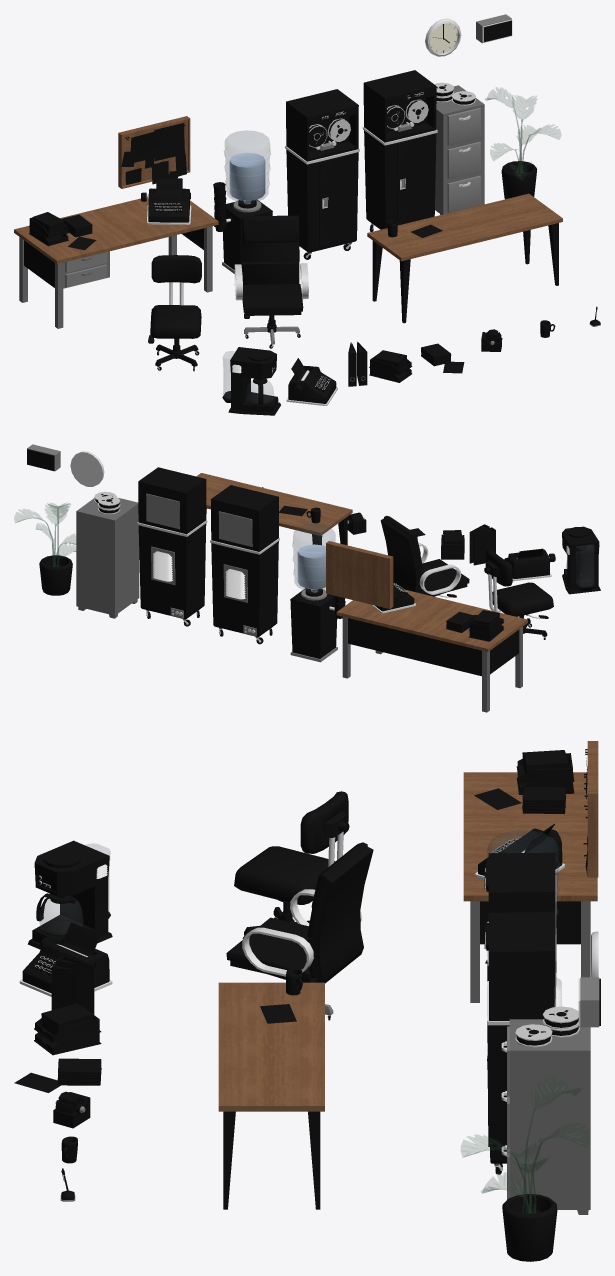
File: 60_39_s_Office_Props.glb
3 renders of one model, top to bottom at view 1: azimuth 30°, elevation 25°; view 2: azimuth 150°, elevation 25°; view 3: azimuth 270°, elevation 25°, orthographic. The views are drawn at different scales.
Visible parts, largest first — view 1: Cube.022_0, Cube.000_0, Cube.020_0, Cube.021_4, Cube.016_0, Cube.004_4, Cube.003_1, Cube.023_5, Cube.11647_0, Cube.003_2, Cube.022_1, Cube.000_7 (+20 smaller); view 2: Cube.000_0, Cube.022_0, Cube.003_2, Cube.016_0, Cube.016_1, Cube.11647_1, Cube.023_0, Cube.020_0, Cube.023_5, Cube.021_5, Cube.004_4, Cube.015_0 (+17 smaller); view 3: Cube.003_2, Cube.020_0, Cube.000_0, Cube.016_0, Cube.021_5, Cube.015_0, Cube.004_4, Cube.022_0, Cylinder.003_1, Cube.021_4, Cylinder.003_0, Cube.020_1 (+20 smaller).
Boxes of the visible parts, x1,y1,x2,y2 form: Cube.022_0: (286,89,358,252); Cube.000_0: (363,70,436,229); Cube.020_0: (367,193,562,261); Cube.021_4: (242,215,303,312); Cube.016_0: (14,198,218,263); Cube.004_4: (150,255,201,338); Cube.003_1: (447,108,480,212); Cube.023_5: (224,130,270,204); Cube.11647_0: (121,123,186,184); Cube.003_2: (435,85,484,214); Cube.022_1: (319,156,346,245); Cube.000_7: (397,137,424,225); Cube.000_0: (138,467,206,619); Cube.022_0: (211,485,278,637); Cube.003_2: (76,497,139,618); Cube.016_0: (336,589,527,651); Cube.016_1: (348,618,518,676); Cube.11647_1: (326,541,393,608); Cube.023_0: (290,588,337,658); Cube.020_0: (196,473,352,536); Cube.023_5: (292,524,335,592); Cube.021_5: (380,517,467,596); Cube.004_4: (486,549,553,616); Cube.015_0: (562,526,599,590); Cube.003_2: (509,1019,590,1214); Cube.020_0: (218,982,324,1111); Cube.000_0: (487,912,555,1163); Cube.016_0: (463,772,597,901); Cube.021_5: (230,844,373,983); Cube.015_0: (32,840,109,942); Cube.004_4: (234,791,348,904); Cube.022_0: (488,852,555,912); Cylinder.003_1: (461,1078,589,1213); Cube.021_4: (226,842,367,981); Cylinder.003_0: (502,1194,557,1261); Cube.020_1: (223,1111,320,1209).
Size of the model in its own units: 8.06 by 2.72 by 5.1.
12 materials, 4 textured.
